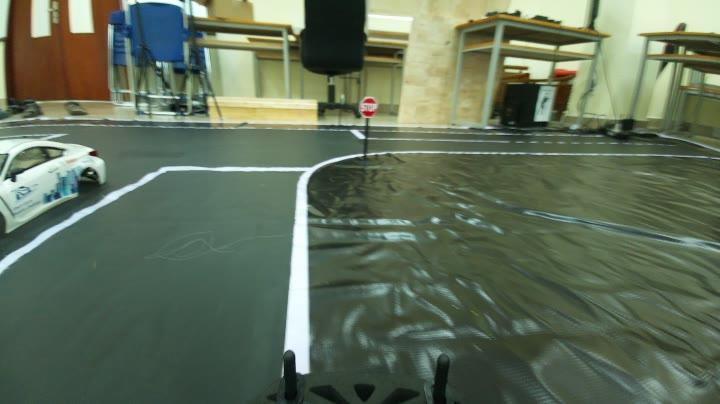stop: (352, 90, 391, 125)
